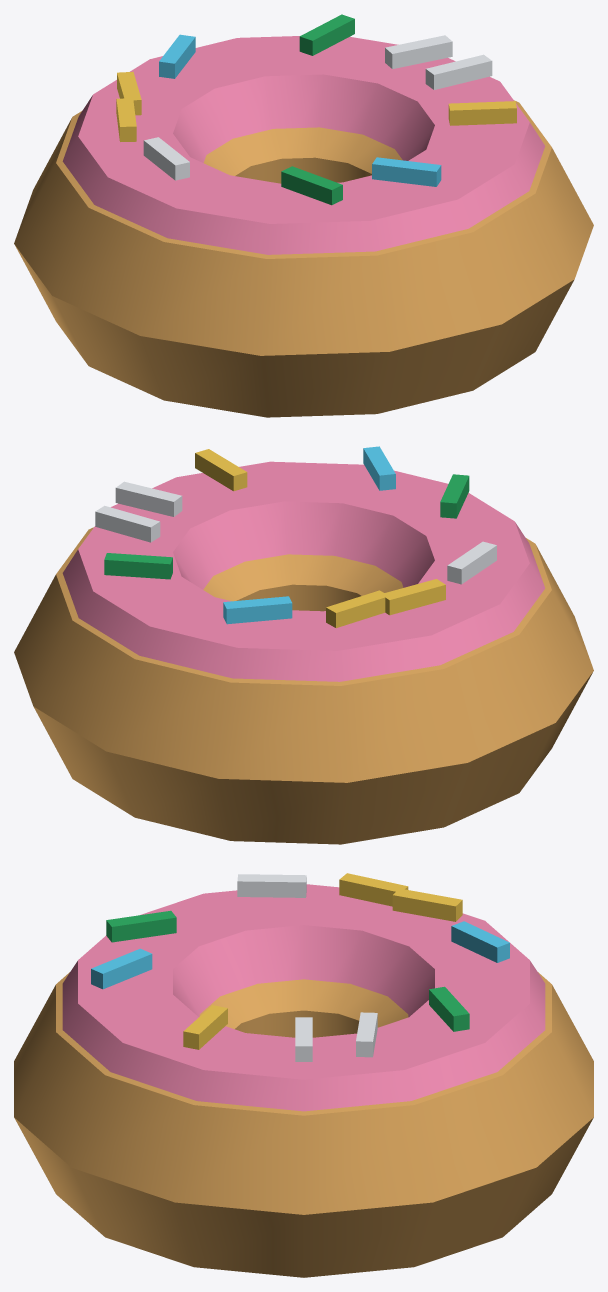
The model's file is donut.glb.
3 renders of one model, top to bottom at view 1: azimuth 30°, elevation 25°; view 2: azimuth 150°, elevation 25°; view 3: azimuth 270°, elevation 25°, orthographic. The views are drawn at different scales.
Parts seen in each view (by area): view 1: donut; view 2: donut; view 3: donut.
Part boxes in pixels (box(x1,y1,x2,y2)): donut: box(14, 14, 593, 417); donut: box(14, 446, 593, 844); donut: box(14, 873, 593, 1277).
Size of the model in its own units: 0.104 by 0.0455 by 0.1014.
